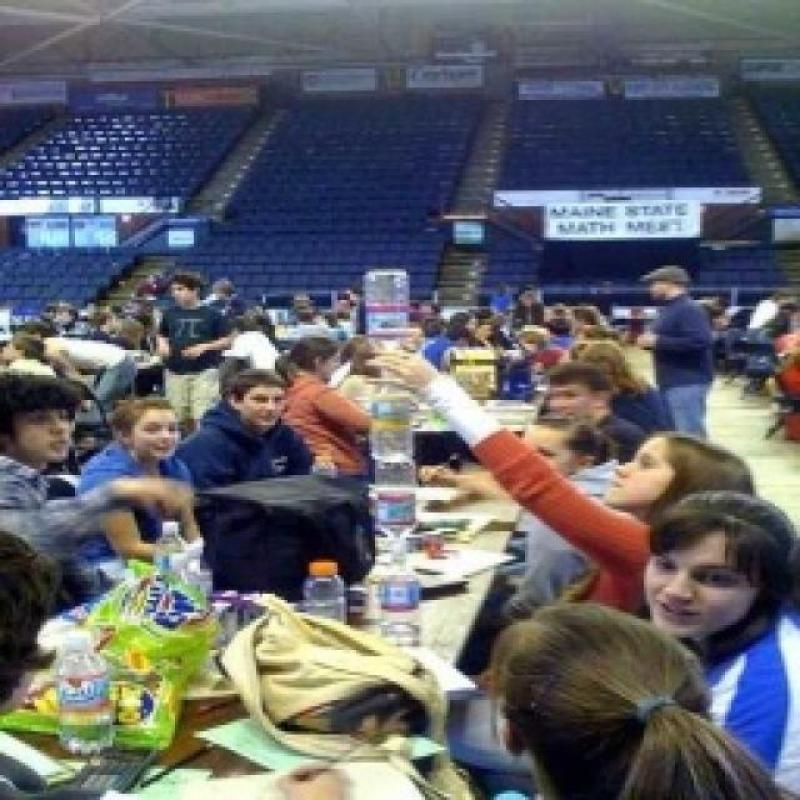botella: (53, 628, 116, 753), (364, 270, 424, 382), (370, 549, 424, 649), (370, 458, 424, 548), (368, 382, 422, 458), (300, 563, 348, 625), (148, 522, 190, 576)
